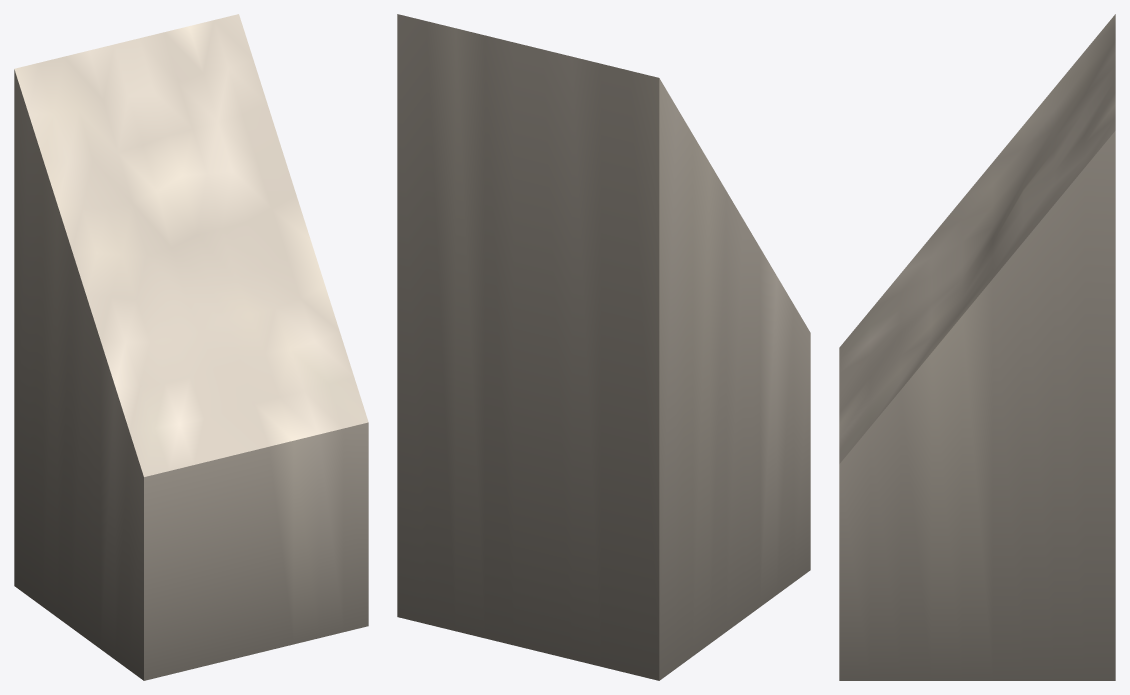
The model's file is SM_VKI_Rock_Cave_CCFF_B.fbx.
3 views of the same model, side by side, from view 1: azimuth 30°, elevation 25°; view 2: azimuth 150°, elevation 25°; view 3: azimuth 270°, elevation 25° (orthographic). The views are drawn at different scales.
Visible parts, largest first — view 1: SM_VKI_Rock_Cave_CCFF_B.001; view 2: SM_VKI_Rock_Cave_CCFF_B.001; view 3: SM_VKI_Rock_Cave_CCFF_B.001.
Boxes of the visible parts, x1,y1,x2,y2 form: SM_VKI_Rock_Cave_CCFF_B.001: (14,14,368,680); SM_VKI_Rock_Cave_CCFF_B.001: (397,14,810,680); SM_VKI_Rock_Cave_CCFF_B.001: (839,14,1115,680).
Size of the model in its own units: 1.5 by 3.3 by 1.5.
